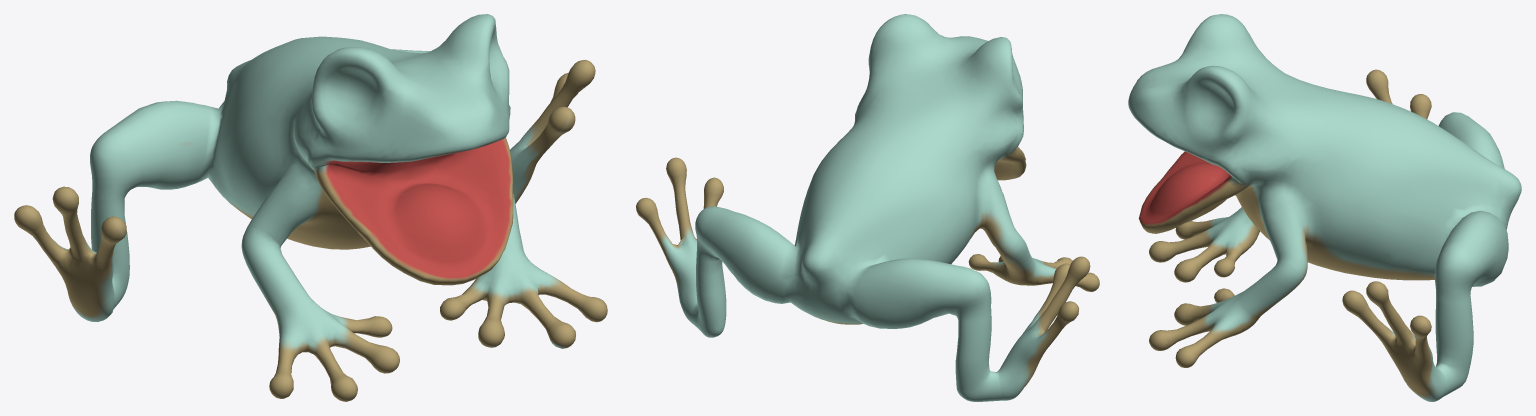
File: pet4.glb
The picture shows the model from 3 angles, left to right: view 1: azimuth 30°, elevation 25°; view 2: azimuth 150°, elevation 25°; view 3: azimuth 270°, elevation 25°; orthographic projection. The views are drawn at different scales.
Visible parts, largest first — view 1: body; view 2: body; view 3: body.
Boxes of the visible parts, box(x1,y1,x2,y2) form: body: box(14, 14, 607, 401); body: box(636, 14, 1099, 401); body: box(1128, 14, 1521, 401).
Bounding box in the file's own units: 1.37 × 0.7787 × 0.9946.
1 material, 1 textured.
